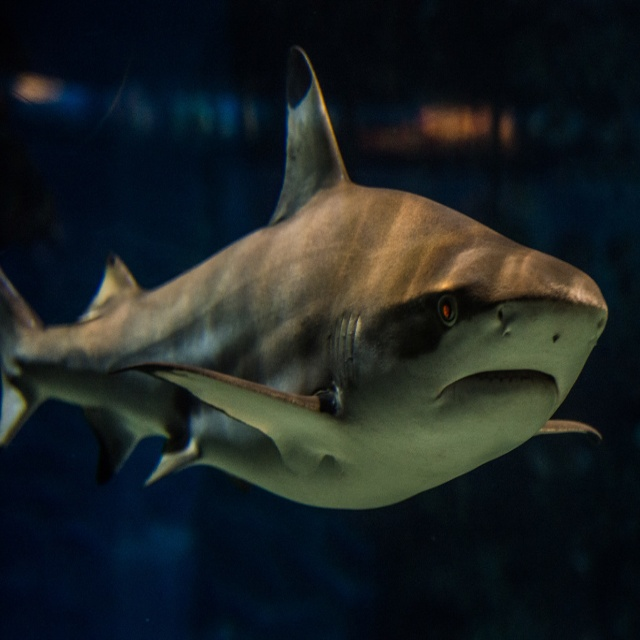Shark: (0, 50, 603, 513)
